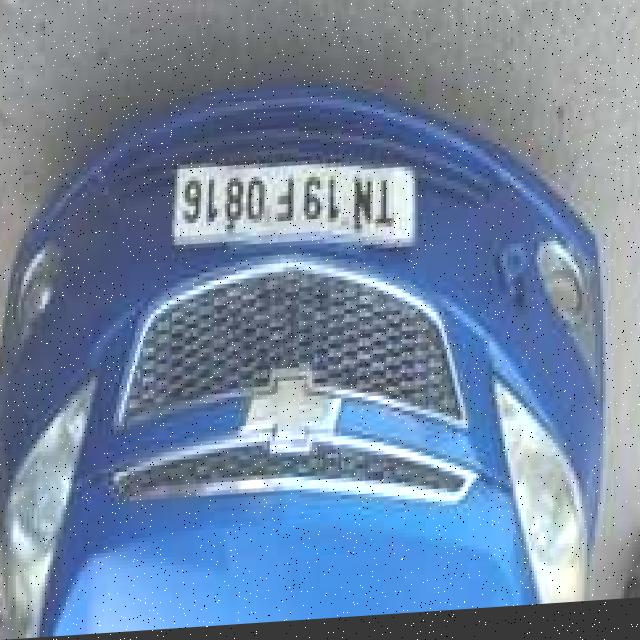plate: (171, 147, 418, 262)
